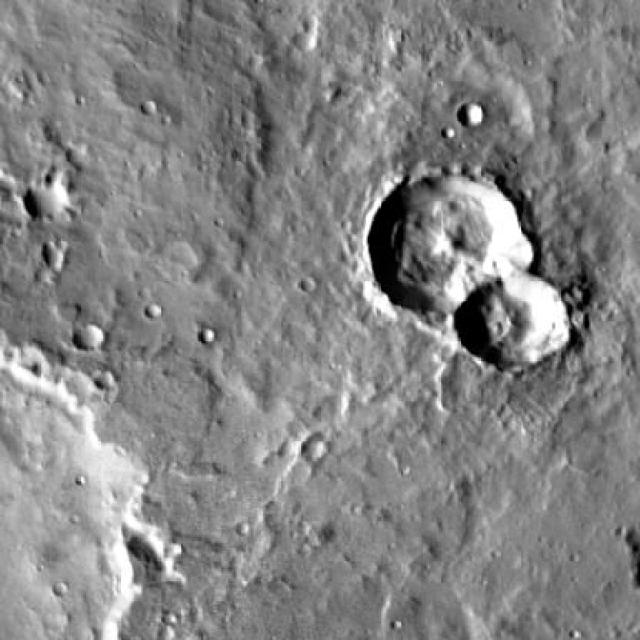crater: (380, 167, 537, 310), (470, 262, 582, 364), (26, 168, 77, 214), (156, 238, 199, 278), (5, 189, 40, 222), (73, 326, 102, 352), (49, 239, 76, 264), (459, 100, 483, 123), (299, 438, 324, 460), (6, 169, 26, 186), (0, 168, 3, 187)
